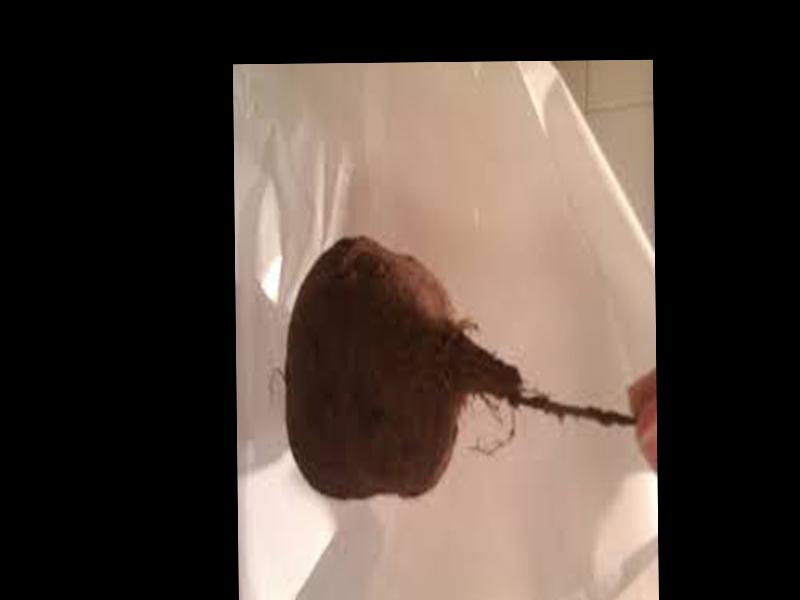Beet: (283, 231, 641, 499)
